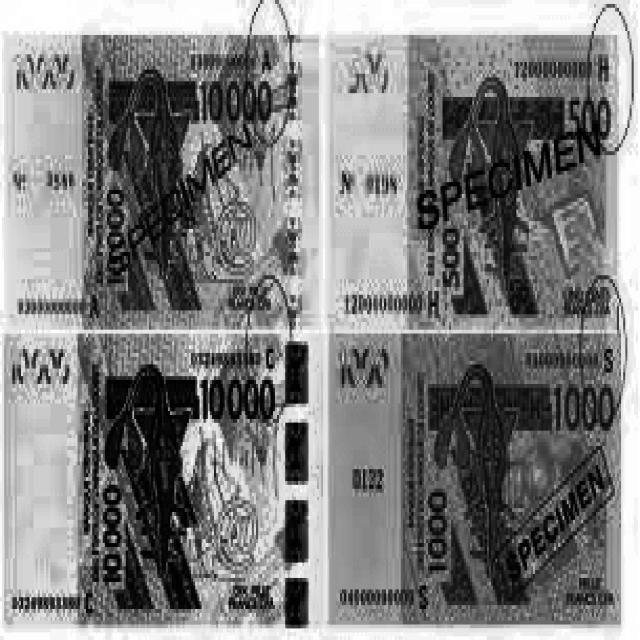niaar junni: (3, 27, 324, 332), (0, 328, 325, 629)
niaar teemeer: (326, 331, 623, 633)
teemeer: (322, 29, 624, 333)
